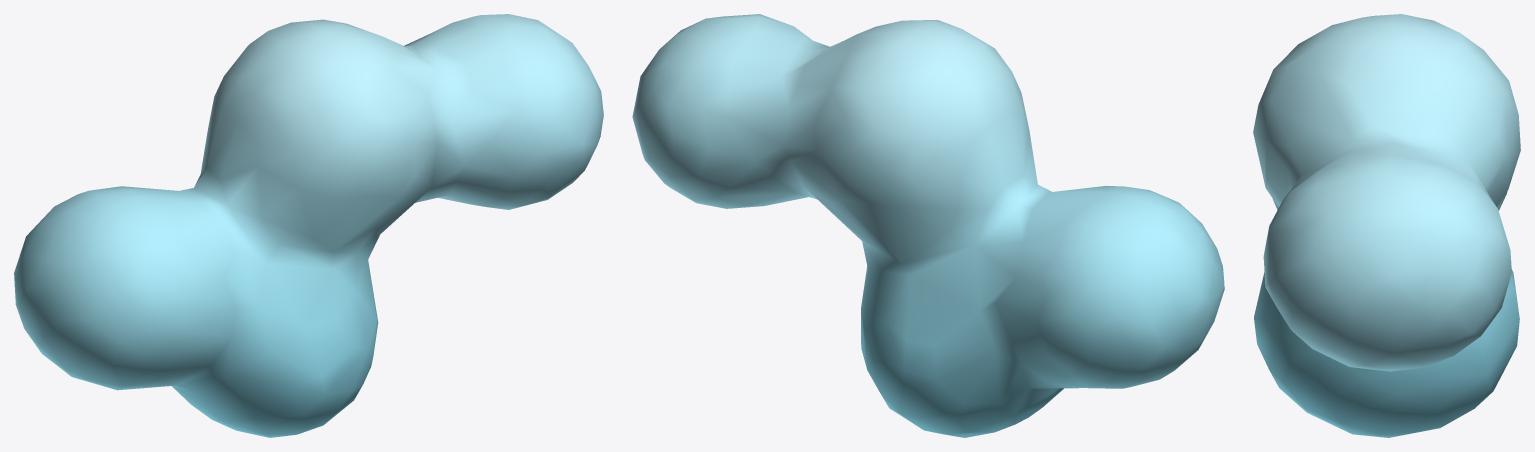
Rendered from cloud_3.fbx.
The picture shows the model from 3 angles, left to right: view 1: azimuth 30°, elevation 25°; view 2: azimuth 150°, elevation 25°; view 3: azimuth 270°, elevation 25°; orthographic projection. The views are drawn at different scales.
Visible parts, largest first — view 1: cloud_3; view 2: cloud_3; view 3: cloud_3.
Part boxes in pixels (<box>): cloud_3: <box>14,14,603,437</box>; cloud_3: <box>632,14,1224,437</box>; cloud_3: <box>1253,14,1520,437</box>.
Bounding box in the file's own units: 289 × 190 × 107.
